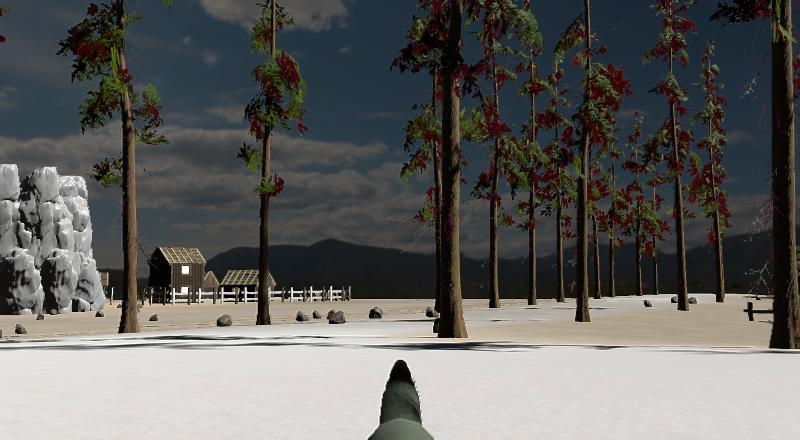House: (148, 246, 205, 302), (227, 269, 276, 301), (203, 270, 219, 300)
